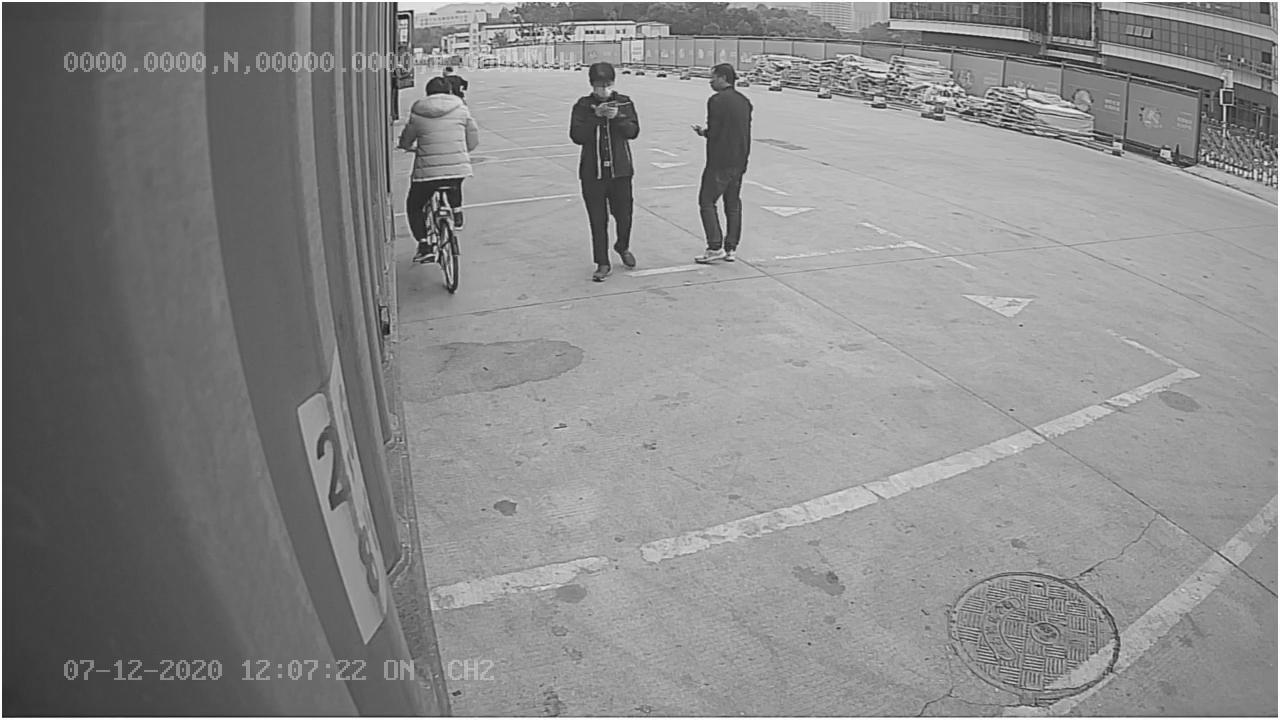person: (569, 56, 641, 282), (685, 56, 758, 267)
